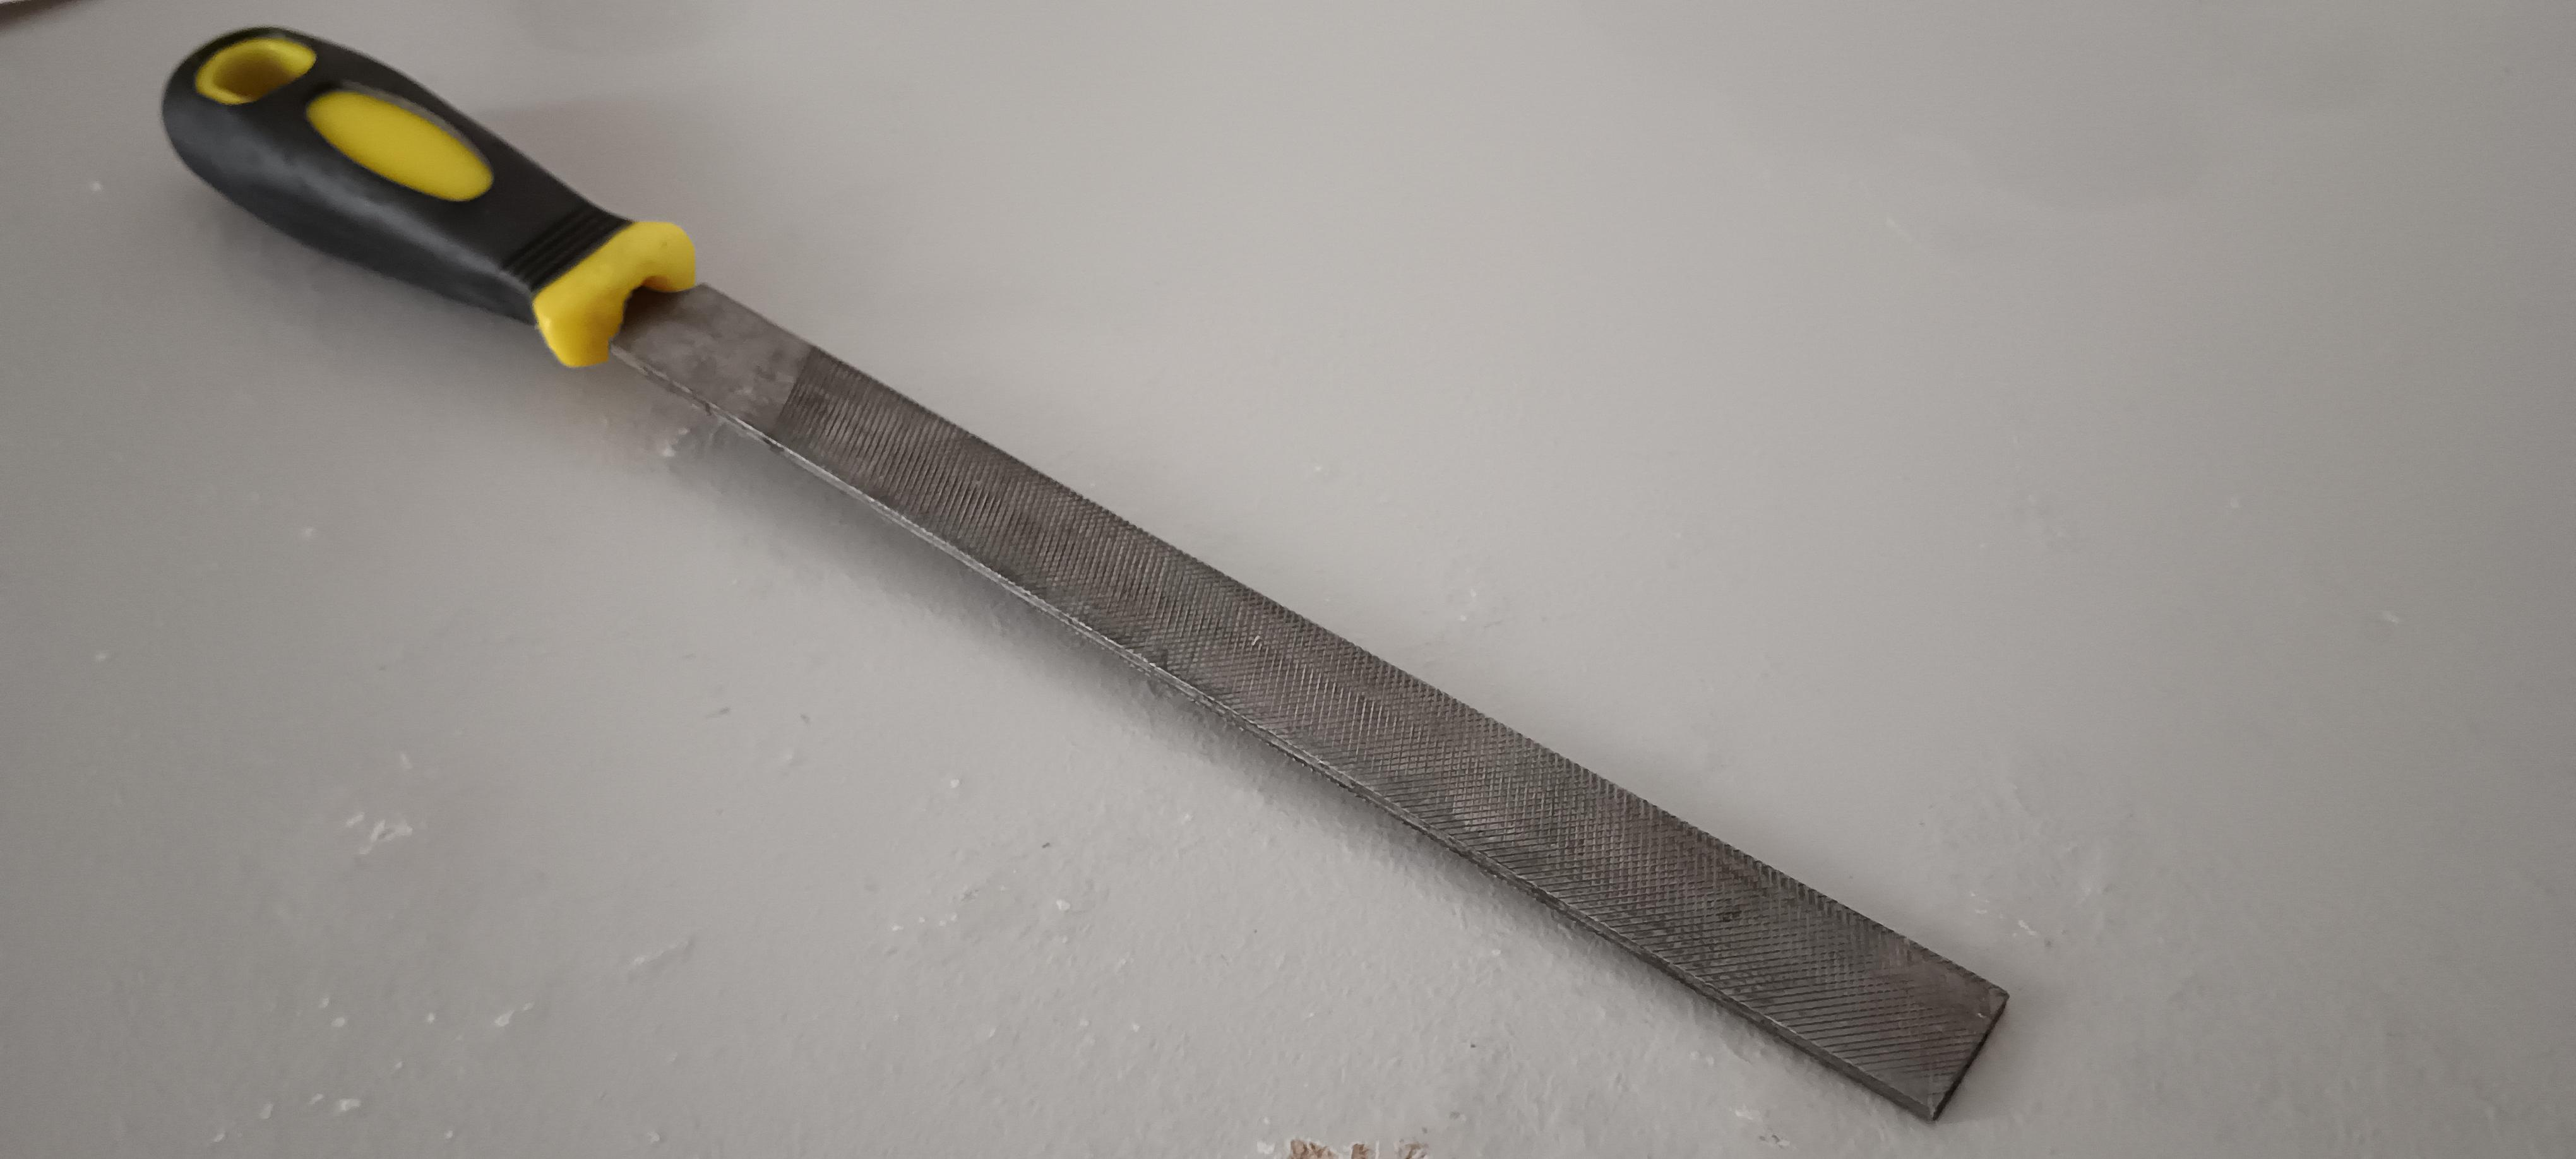Files: (122, 0, 2040, 1159)
